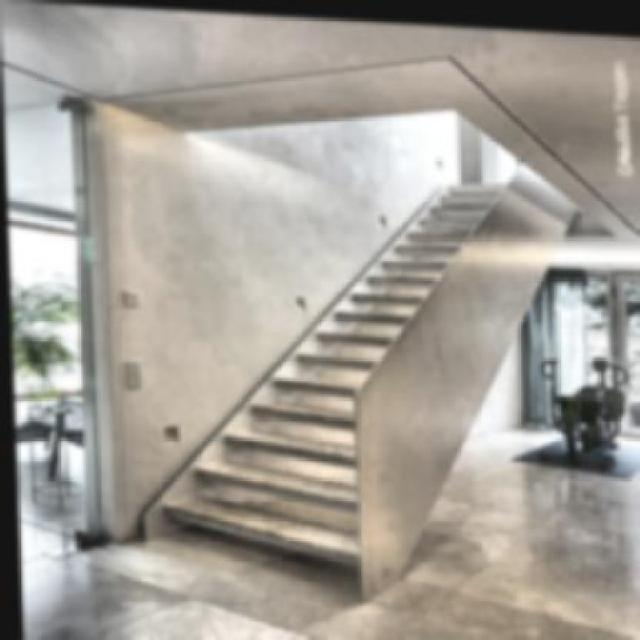stair: (115, 215, 457, 576)
